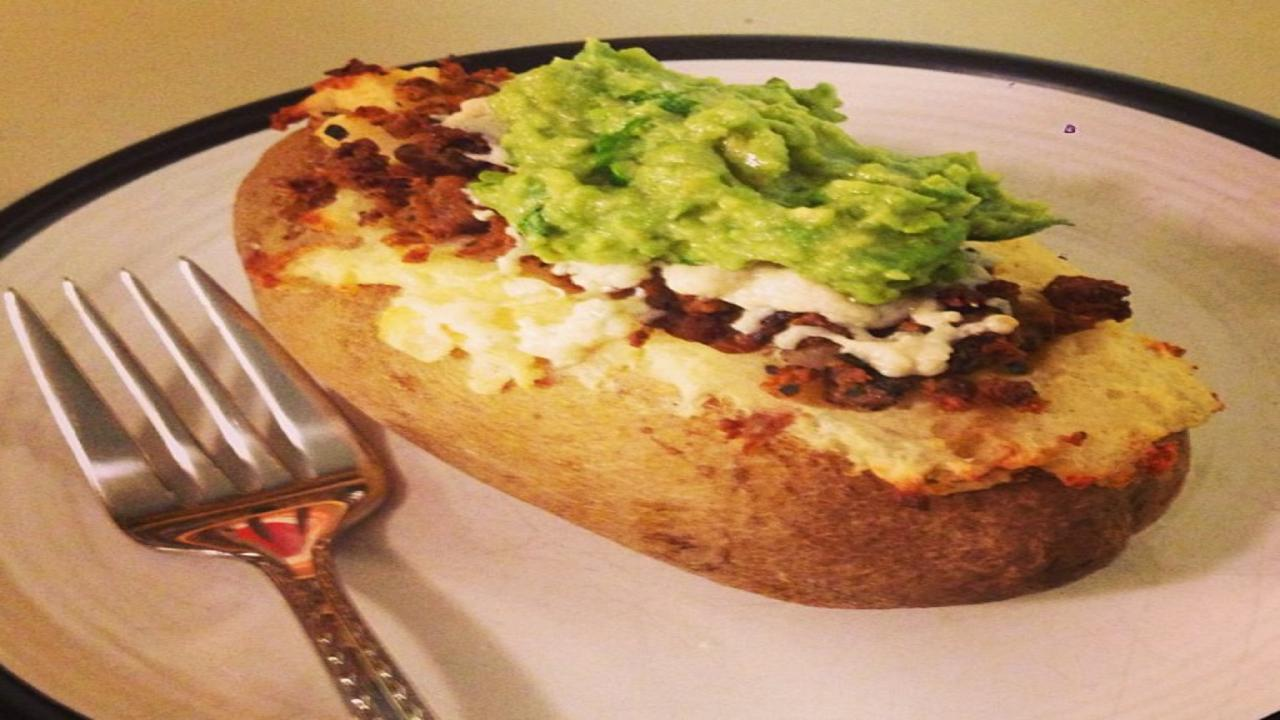fork: (1, 253, 394, 720)
